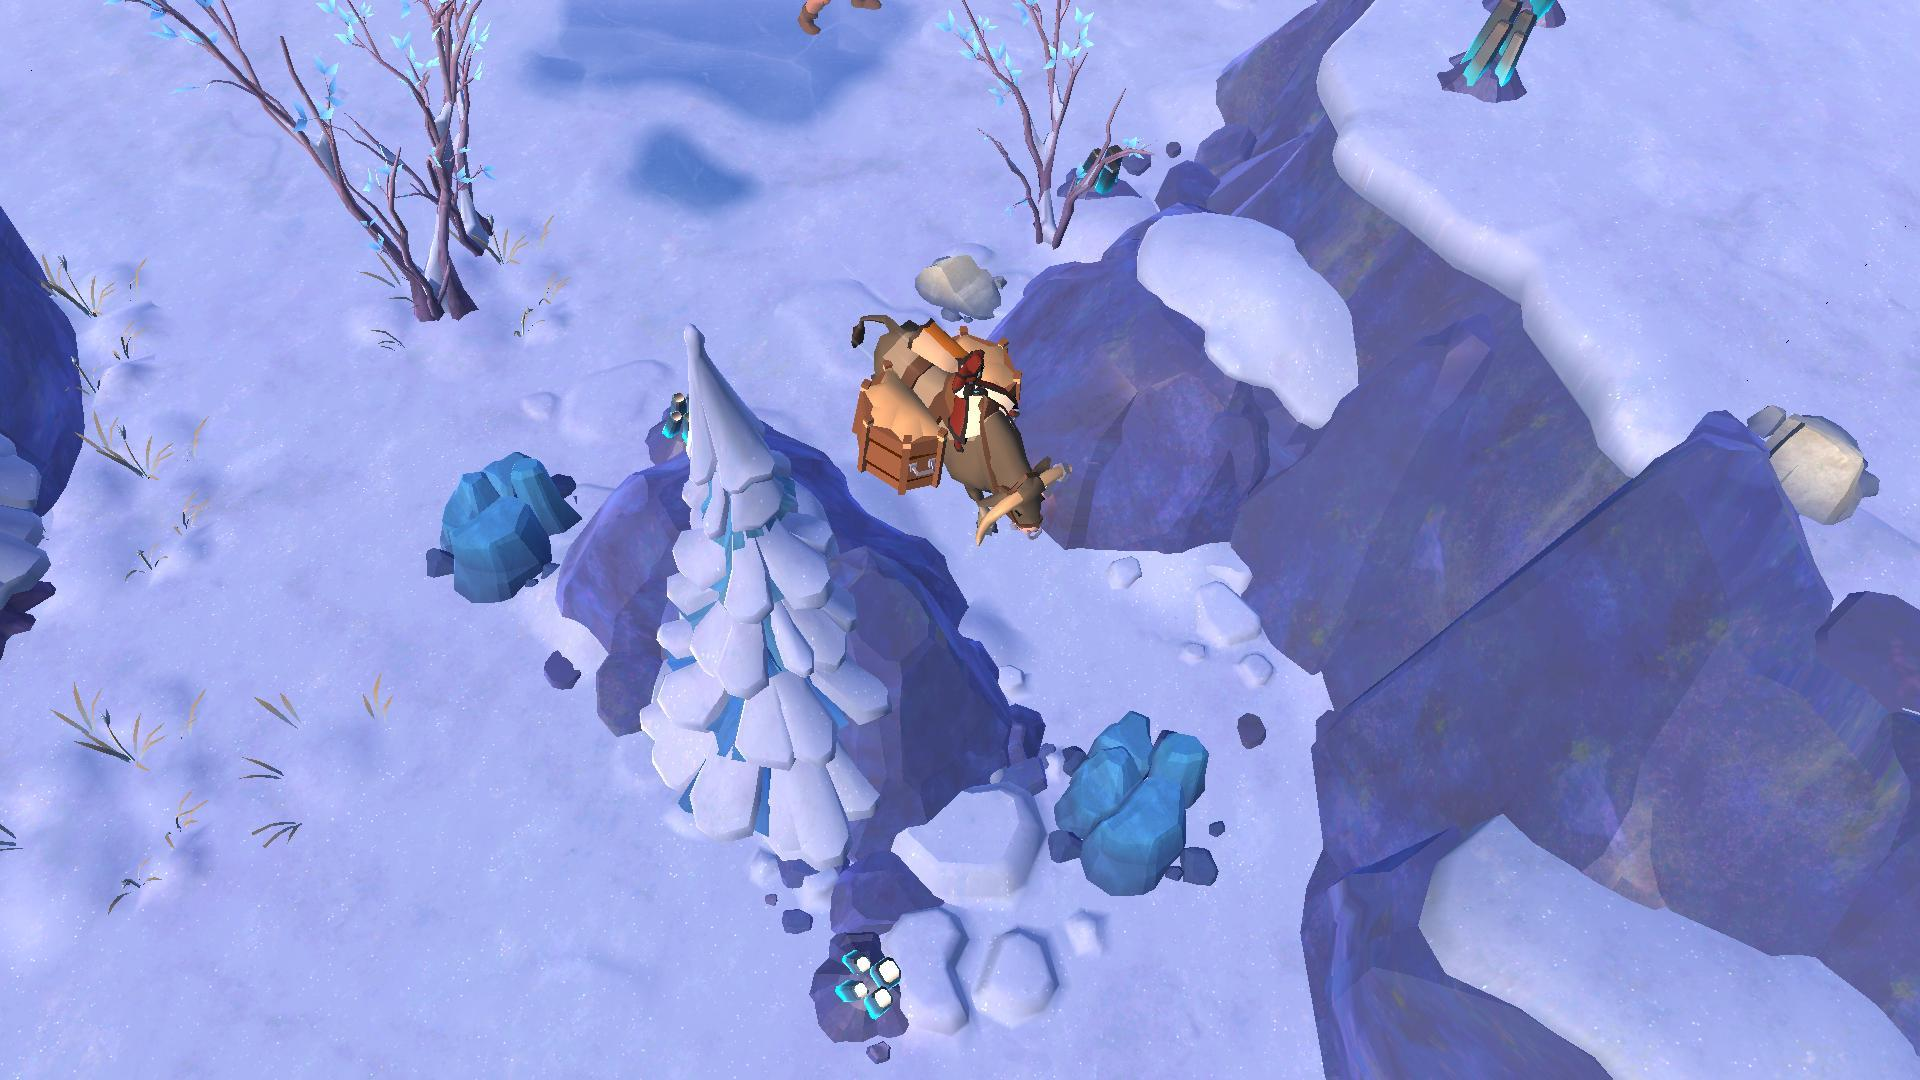ore_t4: (1457, 0, 1543, 91), (829, 943, 899, 1019), (653, 390, 703, 452)
rock_t4: (1055, 704, 1209, 902), (417, 451, 580, 600)
